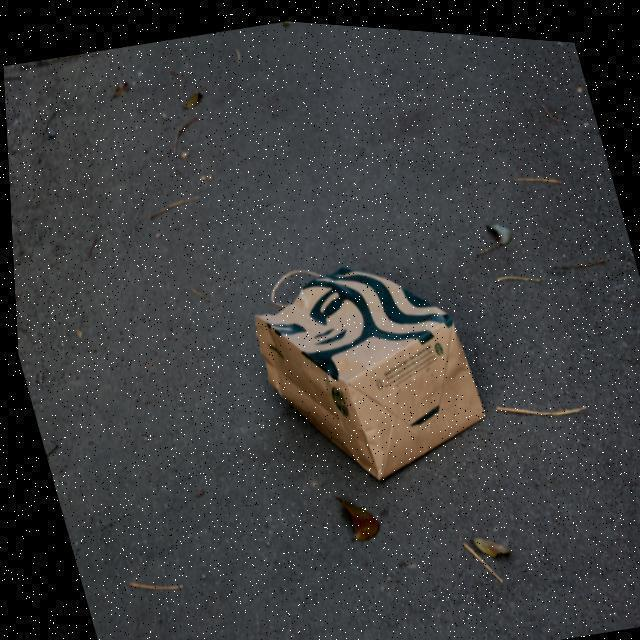Paper_Bag: (234, 228, 496, 502)
